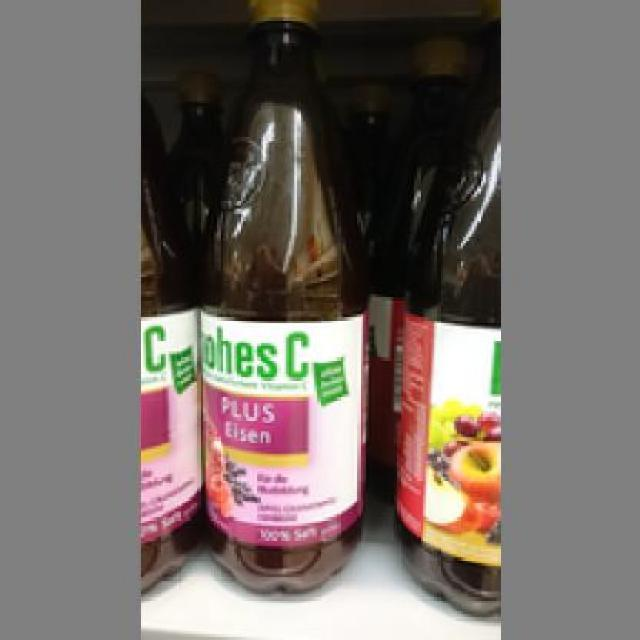Juice: (195, 3, 372, 586), (392, 31, 498, 608)
